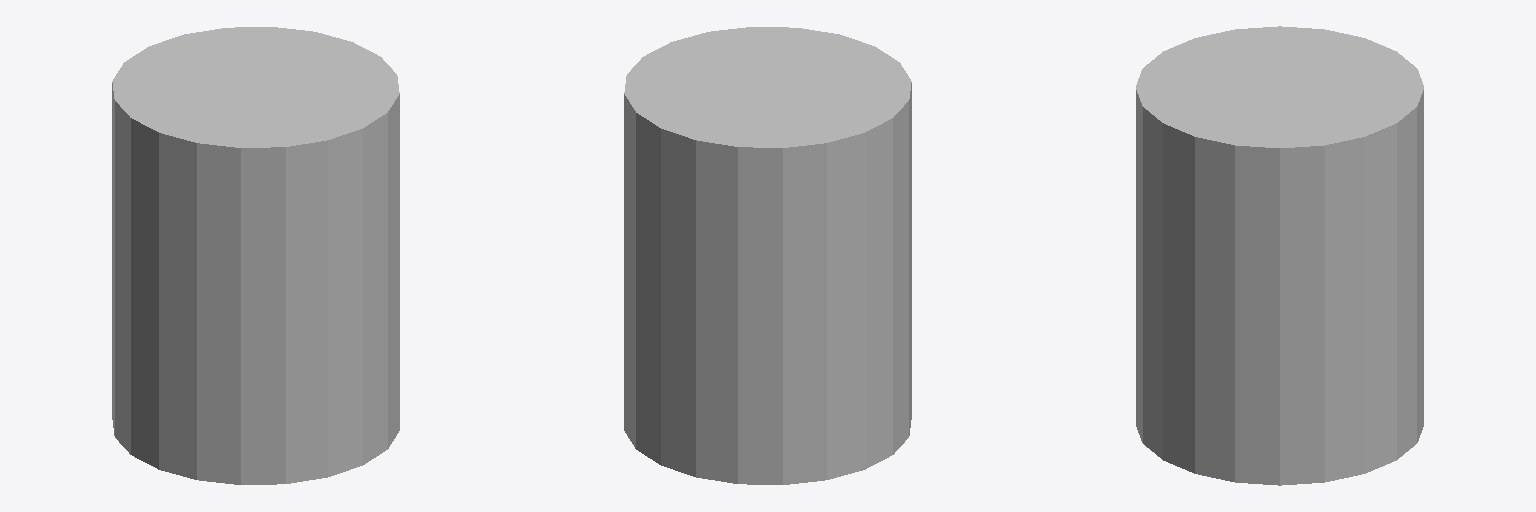
Rendered from canned_food_2.obj.
3 views of the same model, side by side, from view 1: azimuth 30°, elevation 25°; view 2: azimuth 150°, elevation 25°; view 3: azimuth 270°, elevation 25° (orthographic).
Parts seen in each view (by area): view 1: canned_food_2:pCylinder1; view 2: canned_food_2:pCylinder1; view 3: canned_food_2:pCylinder1.
Part boxes in pixels (left/top/right/bottom): canned_food_2:pCylinder1: left=112, top=27, right=399, bottom=484; canned_food_2:pCylinder1: left=624, top=27, right=911, bottom=484; canned_food_2:pCylinder1: left=1136, top=26, right=1423, bottom=485.
Size of the model in its own units: 0.7237 by 0.9315 by 0.7237.